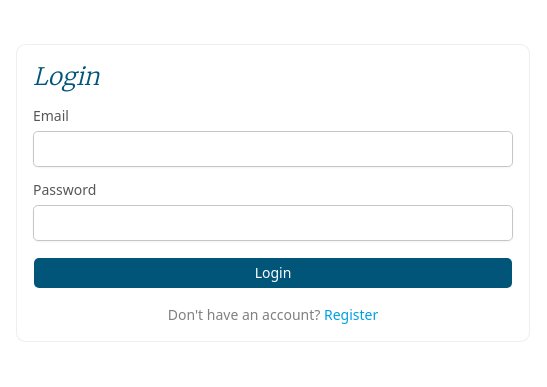
Scenario: LoginPage › validates required inputs before submitting
Click the button "Login".
click(273, 273)  # box x1=33 y1=257 x2=513 y2=289
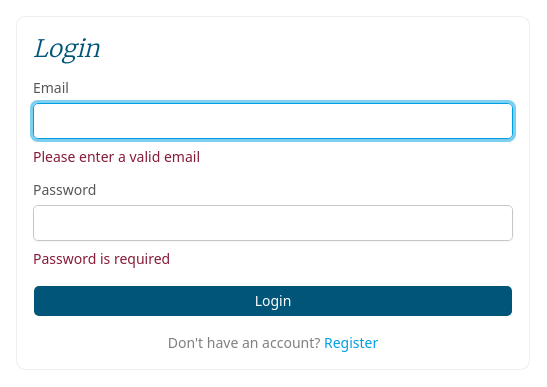
expect the text "Please enter a valid email" is shown: met, box x1=33 y1=147 x2=200 y2=166
expect the text "Password is required" is shown: met, box x1=33 y1=249 x2=170 y2=268
